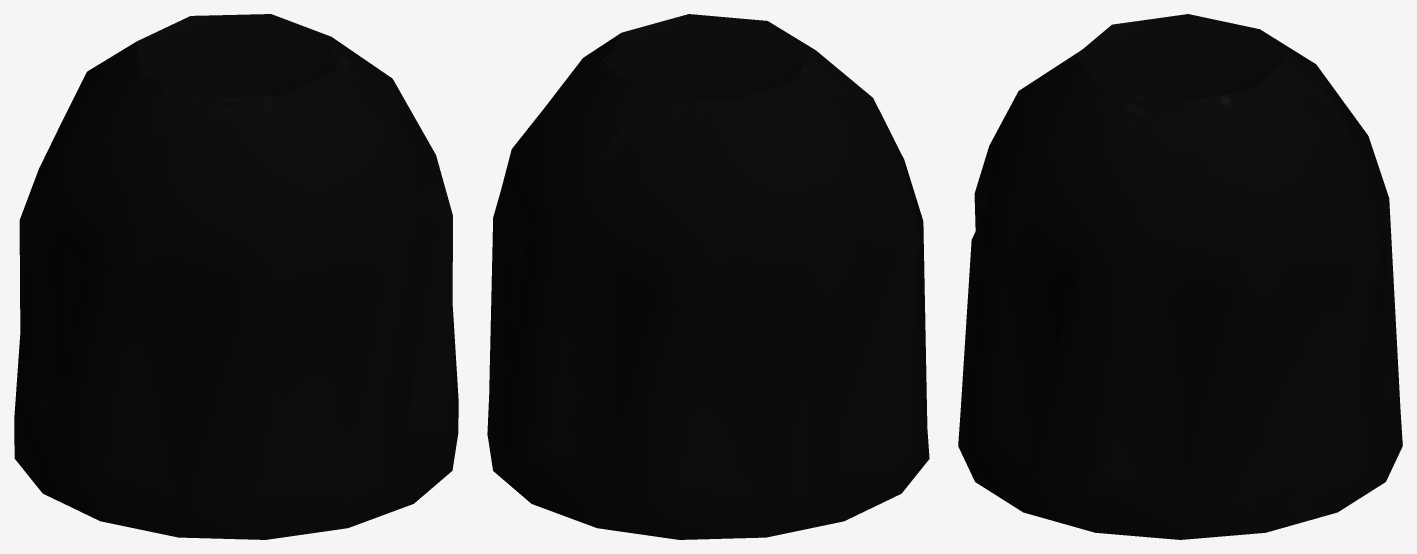
Rendered from shotgun_slug.glb.
3 views of the same model, side by side, from view 1: azimuth 30°, elevation 25°; view 2: azimuth 150°, elevation 25°; view 3: azimuth 270°, elevation 25° (orthographic).
Visible parts, largest first — view 1: shotgun_slug; view 2: shotgun_slug; view 3: shotgun_slug.
Part boxes in pixels (x1,y1,x2,y2): shotgun_slug: (14,14,458,539); shotgun_slug: (487,14,929,539); shotgun_slug: (958,14,1402,539).
Size of the model in its own units: 0.0167 by 0.0161 by 0.0167.
Materials: 1 (1 with a texture image).
